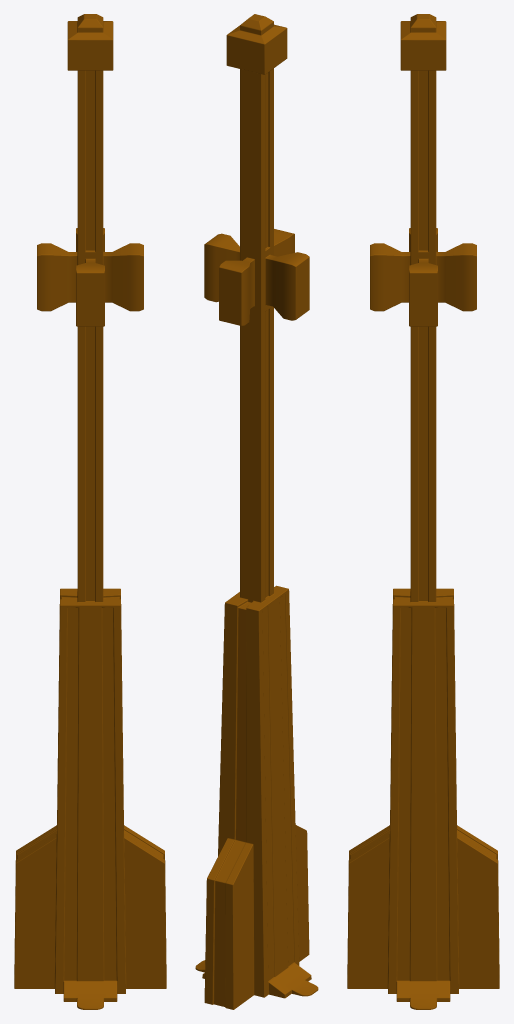
Rendered from Street_Lamp_03.fbx.
The picture shows the model from 3 angles, left to right: view 1: azimuth 90°, elevation 25°; view 2: azimuth 150°, elevation 25°; view 3: azimuth 270°, elevation 25°; orthographic projection.
Visible parts, largest first — view 1: Street_Lamp_03; view 2: Street_Lamp_03; view 3: Street_Lamp_03.
Part boxes in pixels (x1,y1,x2,y2): Street_Lamp_03: (14, 14, 166, 1009); Street_Lamp_03: (195, 14, 318, 1009); Street_Lamp_03: (347, 14, 499, 1009).
Size of the model in its own units: 106 by 840 by 120.
